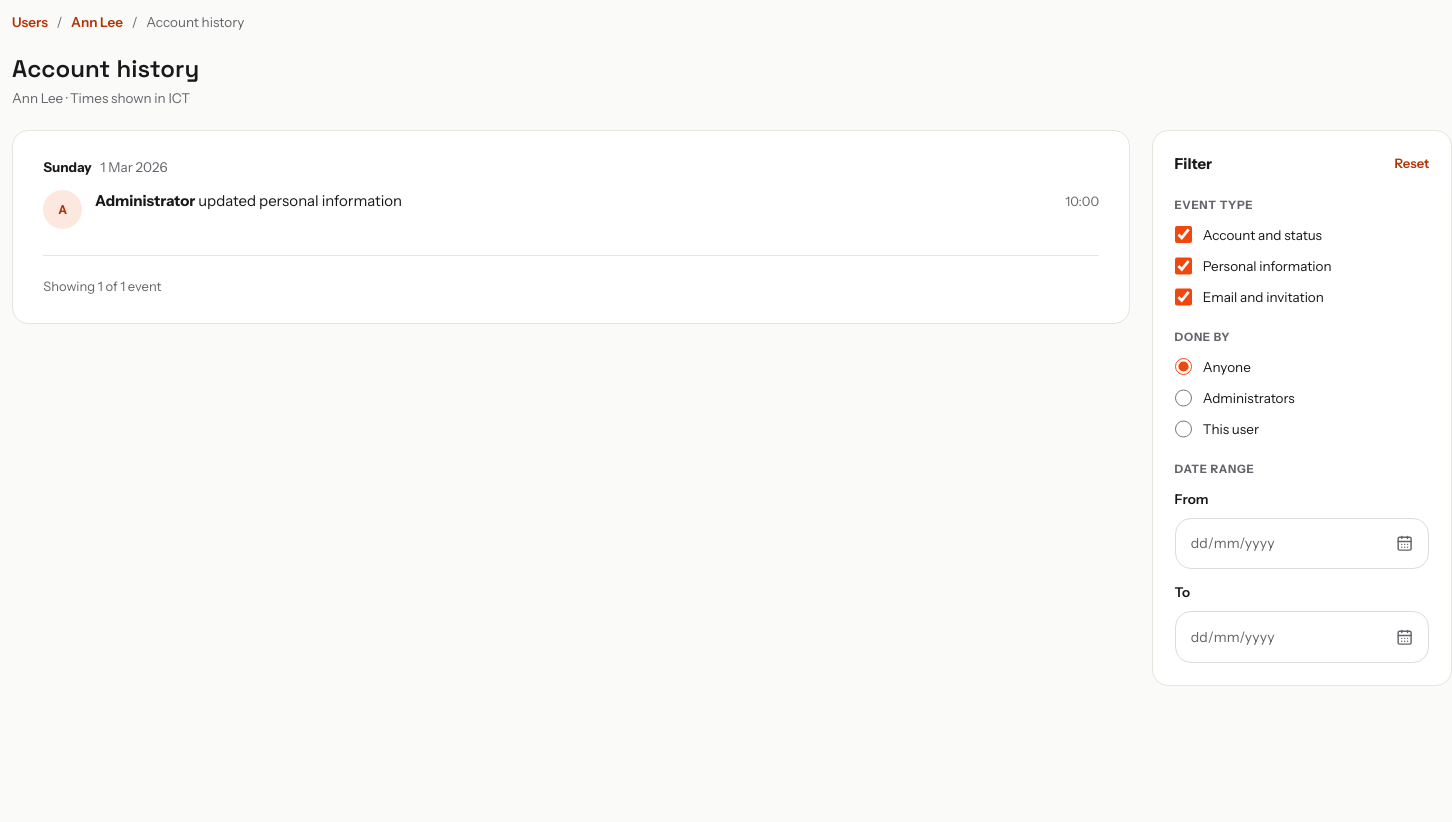
Test: AdminUserHistoryPage › filters by who did it with radios
expect the radio button labelled "Anyone" is checked: met, box x1=1175 y1=358 x2=1192 y2=376
Click the radio button labelled "Administrators": [1183, 398] box x1=1175 y1=389 x2=1192 y2=407
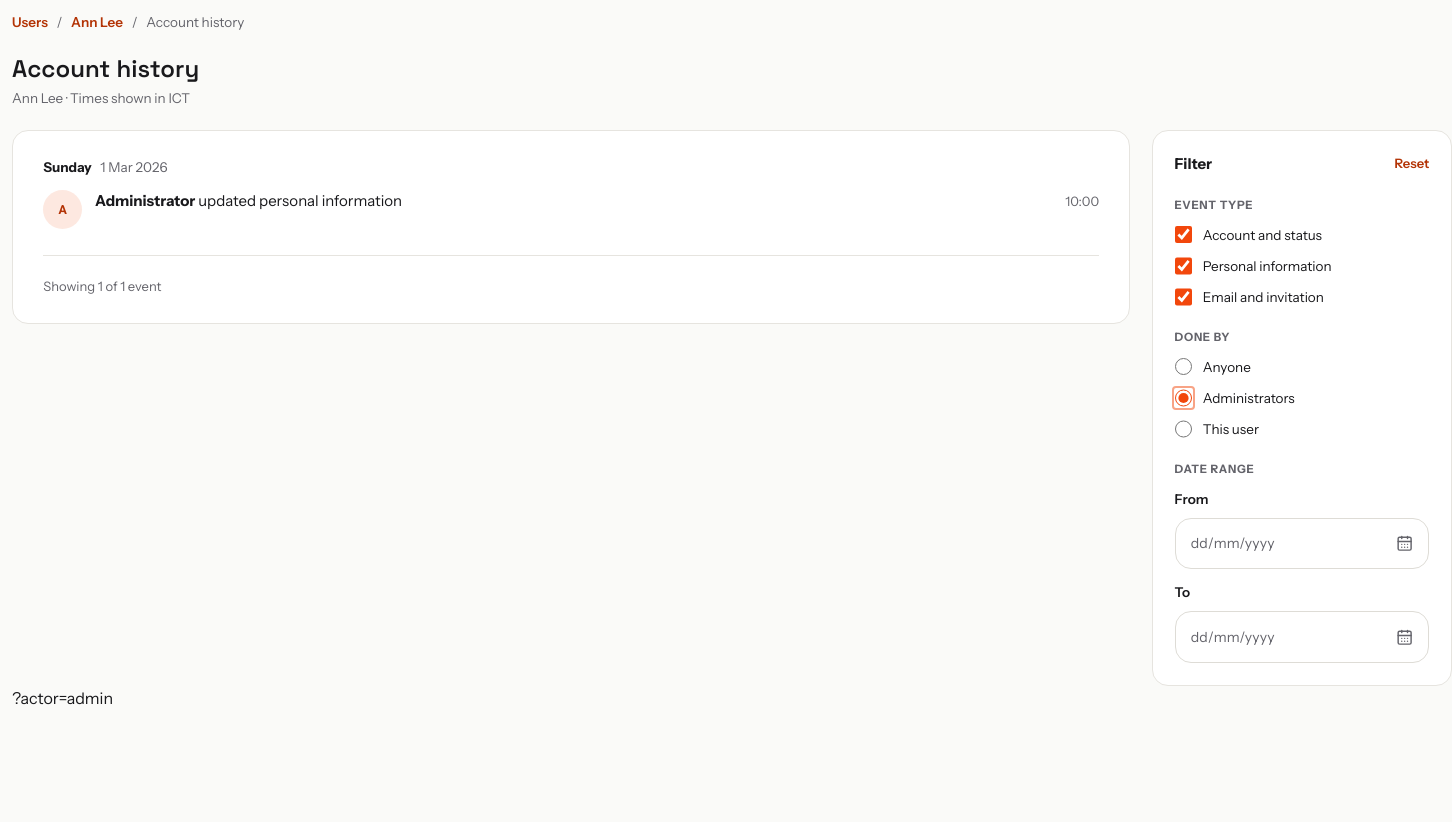
expect the text with test id "search" shows "actor=admin": met, box x1=12 y1=688 x2=113 y2=708
